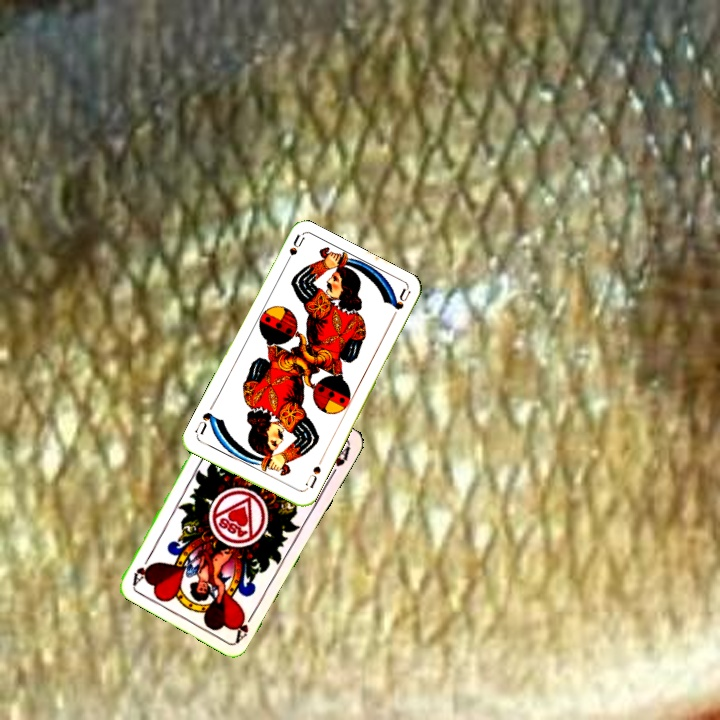HA: (231, 606, 258, 644)
SU: (280, 231, 306, 271), (300, 462, 324, 494)
